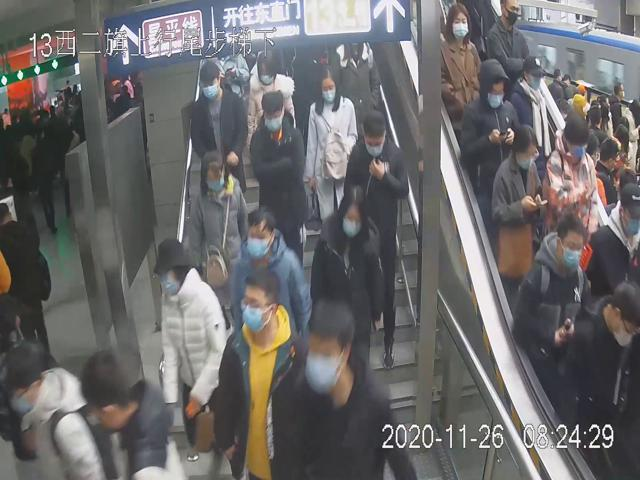person: (341, 104, 410, 369), (214, 266, 296, 480), (153, 234, 227, 450), (306, 183, 382, 380), (512, 206, 587, 378), (179, 148, 250, 309), (247, 87, 306, 263), (488, 122, 545, 300), (458, 53, 521, 201), (303, 59, 358, 225), (189, 59, 248, 201), (438, 1, 486, 132), (245, 45, 298, 149)
